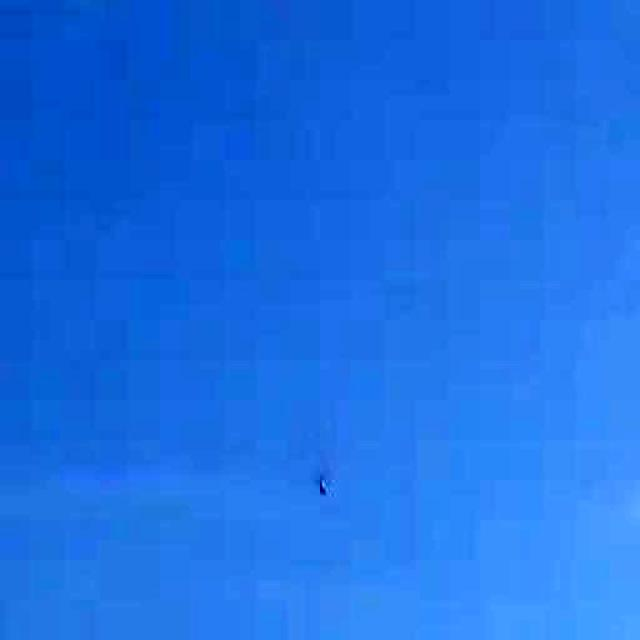drone: (289, 436, 352, 518)
